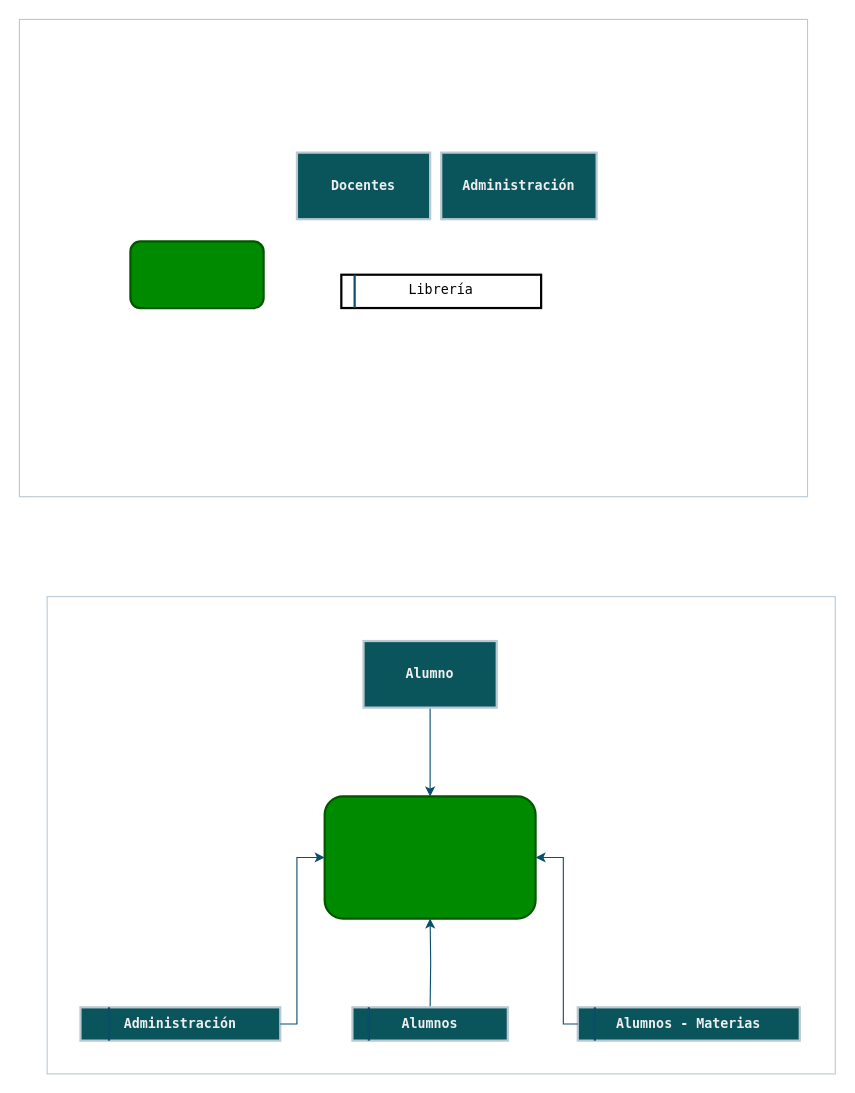
Some shapes in this 855 by 1093 pixel diagram are drawn without their labels. The centre of each missing label's shape, as x and y in pixels:
"Gestión del Alumno" goes at [429,857].
"Proceso" goes at [196,274].
